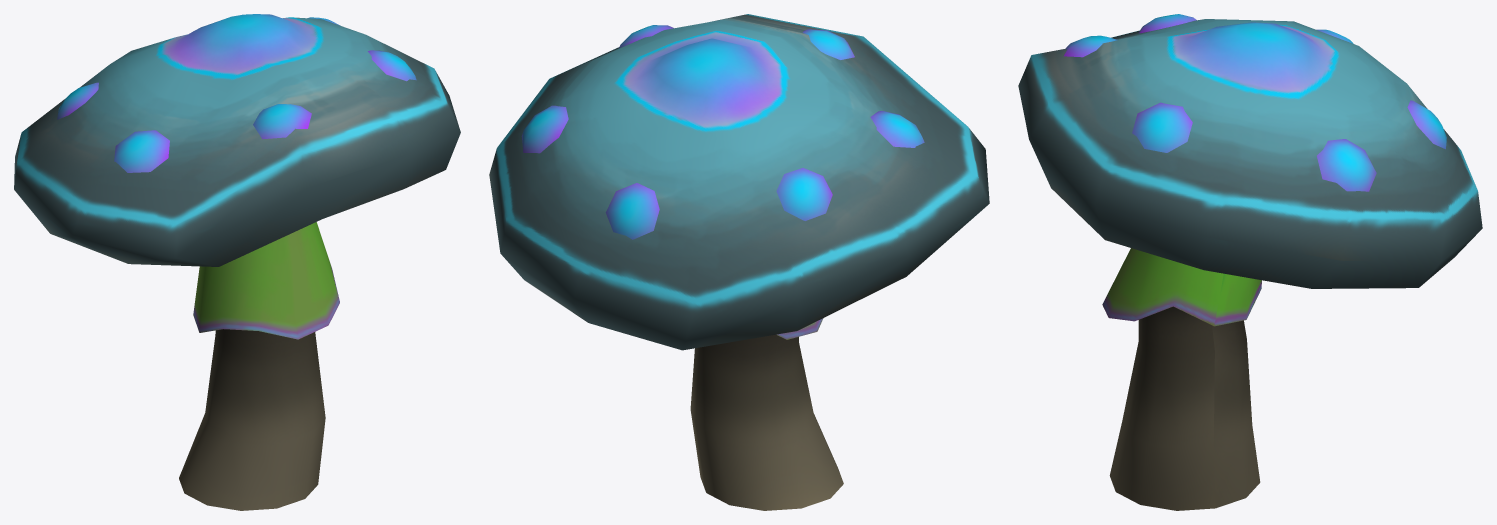
File: BlueMushroom_Model.FBX
3 renders of one model, left to right at view 1: azimuth 30°, elevation 25°; view 2: azimuth 150°, elevation 25°; view 3: azimuth 270°, elevation 25°, orthographic. The views are drawn at different scales.
Parts seen in each view (by area): view 1: Sphere004; view 2: Sphere004; view 3: Sphere004.
Boxes of the visible parts, box(x1,y1,x2,y2) form: Sphere004: box(14, 14, 460, 510); Sphere004: box(489, 14, 989, 510); Sphere004: box(1018, 14, 1482, 510).
Size of the model in its own units: 23.82 by 24.17 by 21.88.
1 material, 1 textured.
